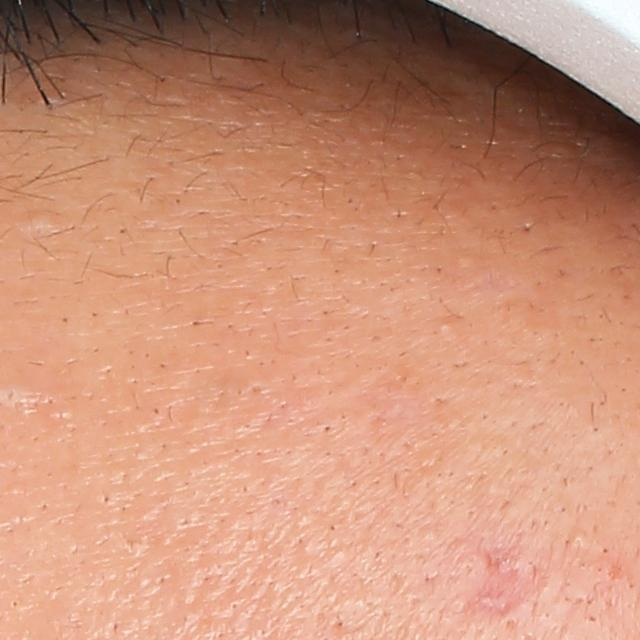atrophic_scar: (467, 546, 558, 631)
comedo: (26, 208, 61, 234), (439, 319, 458, 335)
